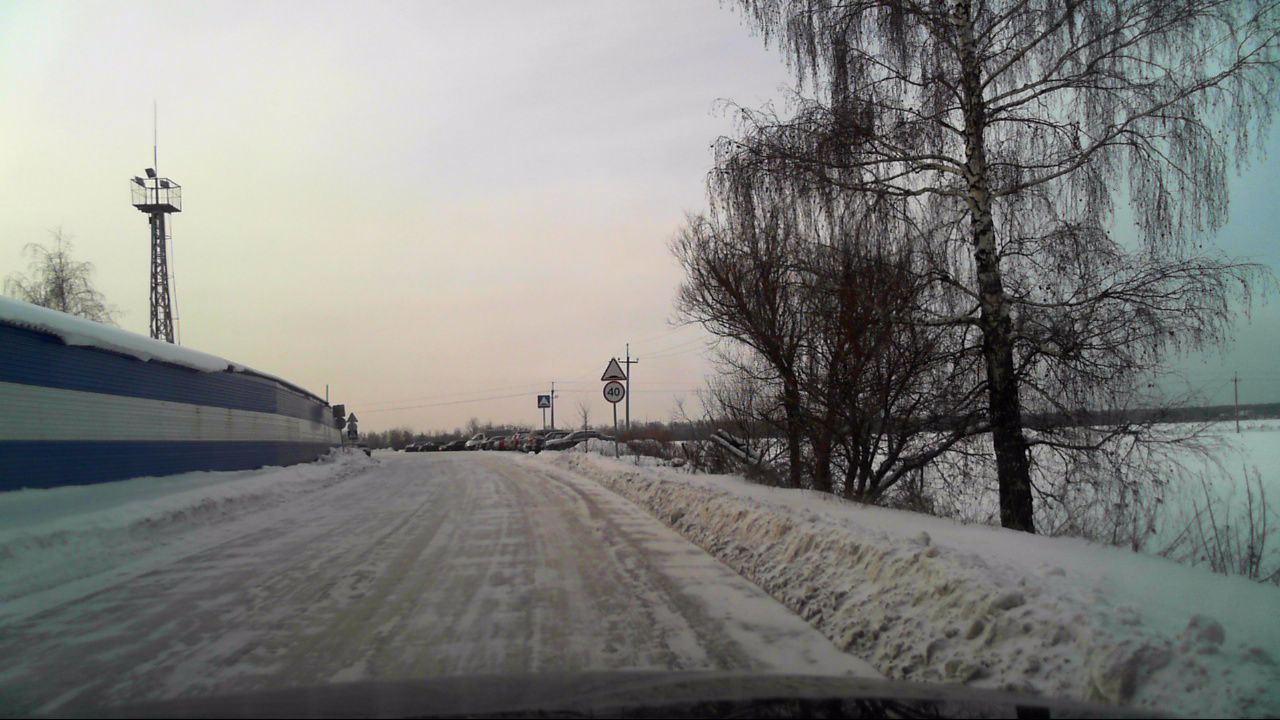speed_warning_40: (603, 381, 625, 402)
